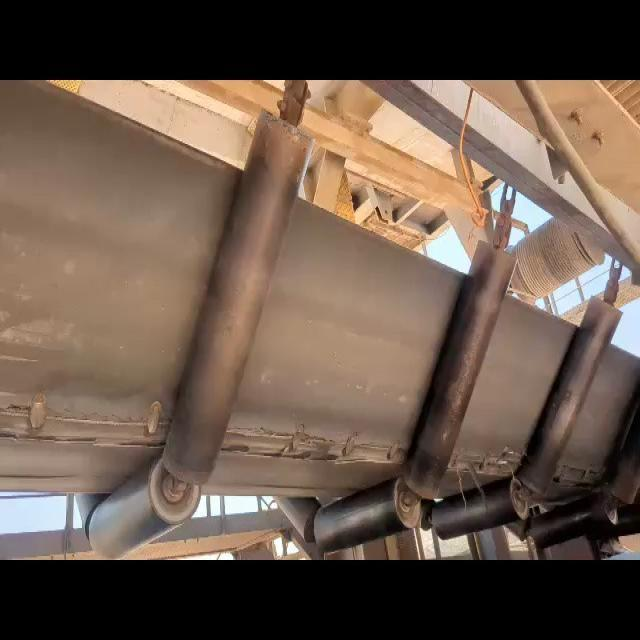Tear: (215, 416, 410, 472), (0, 394, 175, 456), (440, 437, 528, 484)
